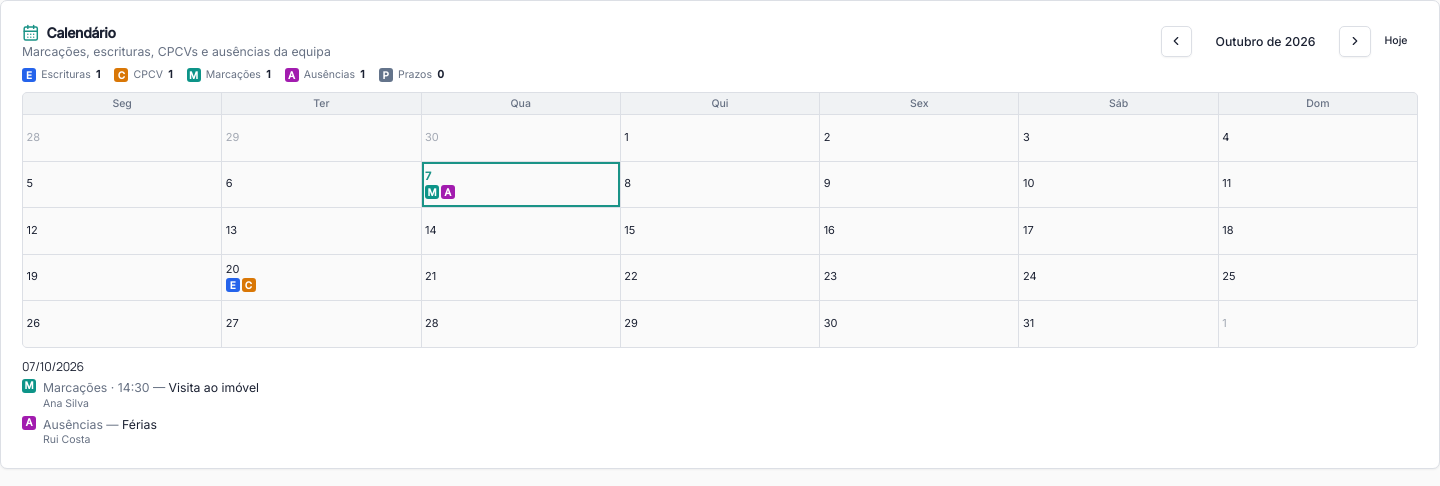
it: o calendário monta e mostra o mês › um dia sem eventos diz-o
Expected: the element with test id "itens-do-dia" is shown, [22,358,259,446]
Step 1. Click the cell with test id "dia-2026-10-15" → click(720, 231), box [621,208,819,254]
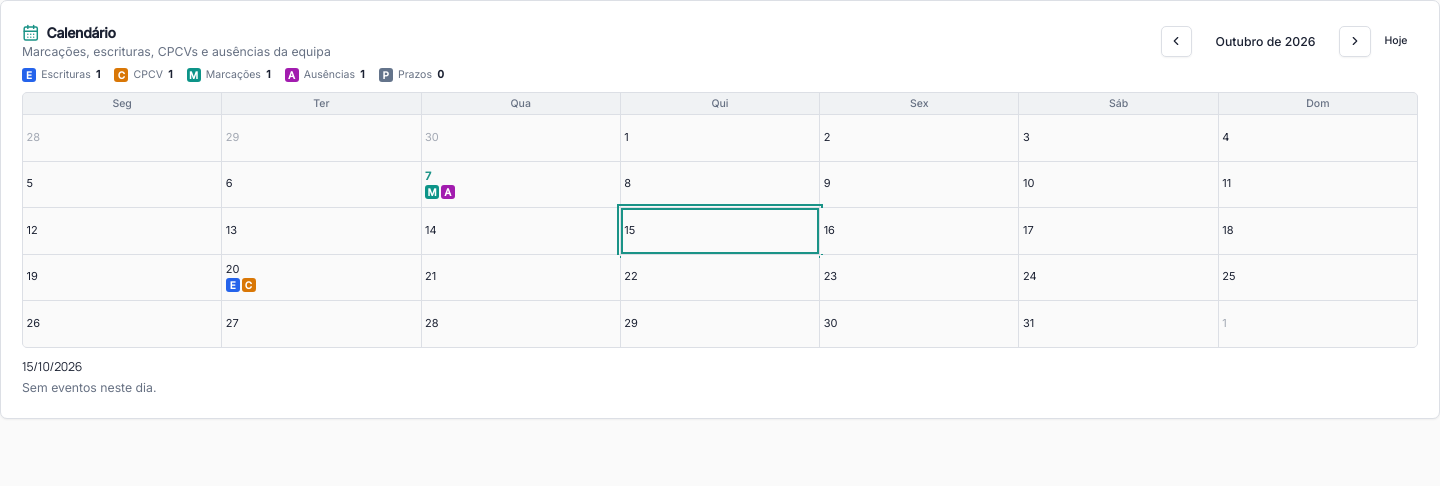
Now the text "Sem eventos neste dia." is shown, box [22,380,156,395]
